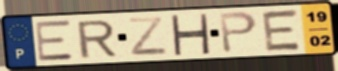E: (260, 8, 304, 53), (33, 19, 77, 63)
H: (168, 13, 212, 56)
P: (217, 10, 260, 55)
R: (74, 18, 119, 60)
Z: (126, 15, 171, 57)
